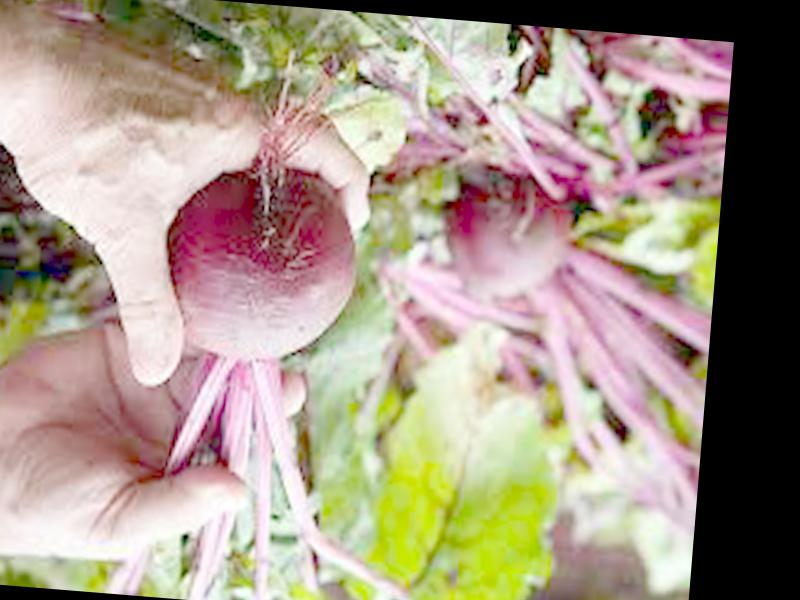Beet: (134, 157, 468, 600)
